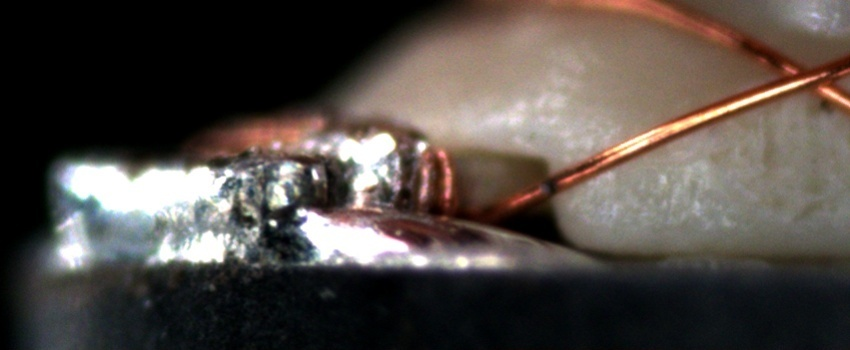CL: (749, 43, 850, 107)
DL: (595, 134, 735, 181)
TE: (395, 128, 460, 217)
